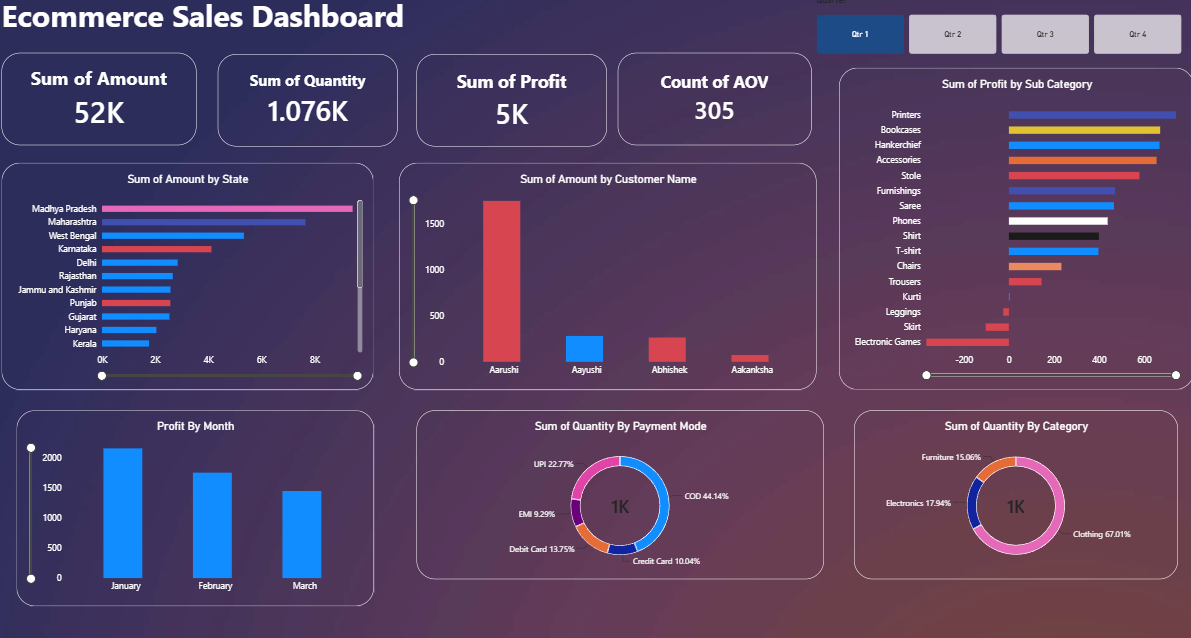

The page's visual inventory and layout, read from the dashboard file:
{"tool":"powerbi","page":{"name":"Page 1","canvas":[1920,1080],"ordinal":0},"visuals":[{"type":"textbox","box":[12,0,736,96],"z":0},{"type":"columnChart","title":"Profit By Month","fields":{"Category":["Orders (1).Order Date.Variation.Date Hierarchy.Month"],"Y":["Sum(Details.Profit)"]},"box":[35,665,571.7,313.3],"z":1000},{"type":"barChart","title":"Sum of Profit by Sub Category  ","fields":{"Category":["Details.Sub-Category"],"Y":["Sum(Details.Profit)"]},"box":[1351.7,118.3,568.3,515],"z":2000},{"type":"donutChart","title":"Sum of Quantity By Category","fields":{"Category":["Details.Category"],"Y":["Sum(Details.Quantity)"]},"box":[1375,665,518.3,270],"z":3000},{"type":"donutChart","title":"Sum of Quantity By Payment Mode","fields":{"Series":["Details.PaymentMode"],"Y":["Sum(Details.Quantity)"]},"box":[675,665,651.7,270],"z":4000},{"type":"cardVisual","fields":{"Data":["Sum(Details.Amount)"]},"box":[12,94,312,148],"z":5000},{"type":"cardVisual","fields":{"Data":["Sum(Details.Profit)"]},"box":[675,96.7,305,148.3],"z":6000},{"type":"cardVisual","fields":{"Data":["Sum(Details.Quantity)"]},"box":[358.3,96.7,288,148],"z":7000},{"type":"cardVisual","fields":{"Data":["CountNonNull(Details.AOV)"]},"box":[998.3,93.3,310,148.3],"z":8000},{"type":"barChart","title":"Sum of Amount by State","fields":{"Category":["Orders (1).State"],"Y":["Sum(Details.Amount)"]},"box":[11.7,270,595,363.3],"z":9000},{"type":"columnChart","fields":{"Category":["Orders (1).Customer Name"],"Y":["Sum(Details.Amount)"]},"box":[648.3,270,668.3,363.3],"z":10000},{"type":"advancedSlicerVisual","fields":{"Values":["Orders (1).Order Date.Variation.Date Hierarchy.Quarter"]},"box":[1316.7,0,603.3,96.7],"z":11000}]}

Visuals, with their boxes on the page's 1920x1080 design canvas (x1, y1, x2, y2). These are canvas units, not pixel positions in the 1191x638 screenshot, which may show the page scaled, cropped or inside an application window:
textbox: (12,0,748,96)
"Profit By Month" columnChart: (35,665,607,978)
"Sum of Profit by Sub Category  " barChart: (1352,118,1920,633)
"Sum of Quantity By Category" donutChart: (1375,665,1893,935)
"Sum of Quantity By Payment Mode" donutChart: (675,665,1327,935)
cardVisual - Sum(Details.Amount): (12,94,324,242)
cardVisual - Sum(Details.Profit): (675,97,980,245)
cardVisual - Sum(Details.Quantity): (358,97,646,245)
cardVisual - CountNonNull(Details.AOV): (998,93,1308,242)
"Sum of Amount by State" barChart: (12,270,607,633)
columnChart - Orders (1).Customer Name x Sum(Details.Amount): (648,270,1317,633)
advancedSlicerVisual - Orders (1).Order Date.Variation.Date Hierarchy.Quarter: (1317,0,1920,97)
